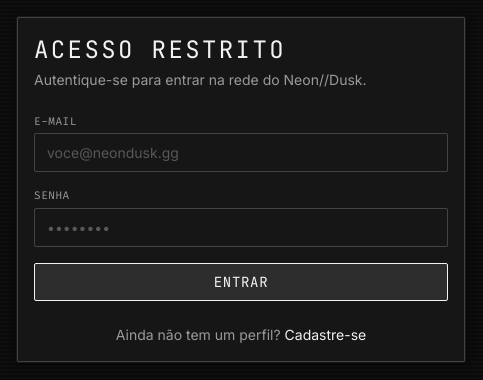
it: LoginView › should show a loading button (aria-busy, disabled, spinner) while login is pending
This screenshot has width=483, height=380.
Type "fixer@neondusk.gg" into the field with placeholder "voce@neondusk.gg".
click(241, 153); type("fixer@neondusk.gg")  # box [34,133,448,172]
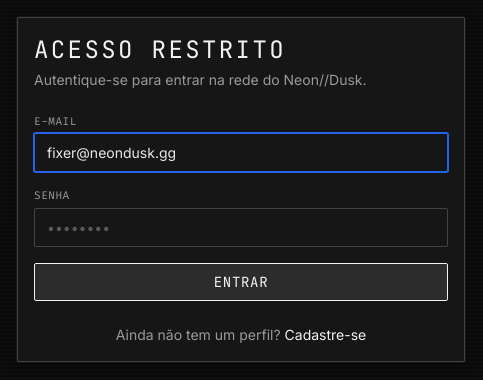
Type "secret123" into the password field with placeholder "••••••••".
click(241, 227); type("secret123")  # box [34,208,448,247]
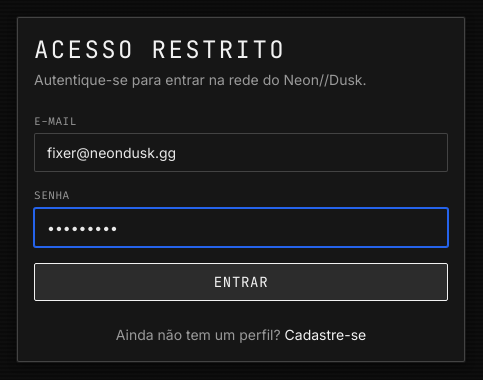
Click the button "ENTRAR".
click(241, 282)  # box [34,263,448,301]
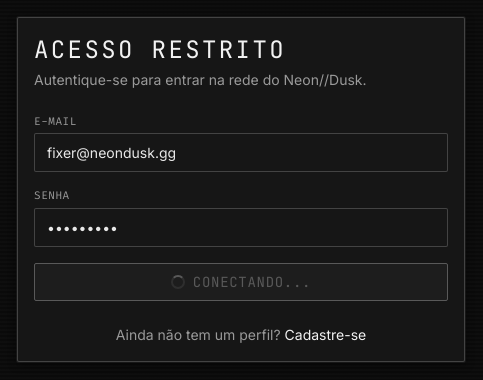
Now the button "CONECTANDO..." is disabled, box [34,263,448,301]
Now the element with class "animate-spin" is shown, box [171,275,185,289]
